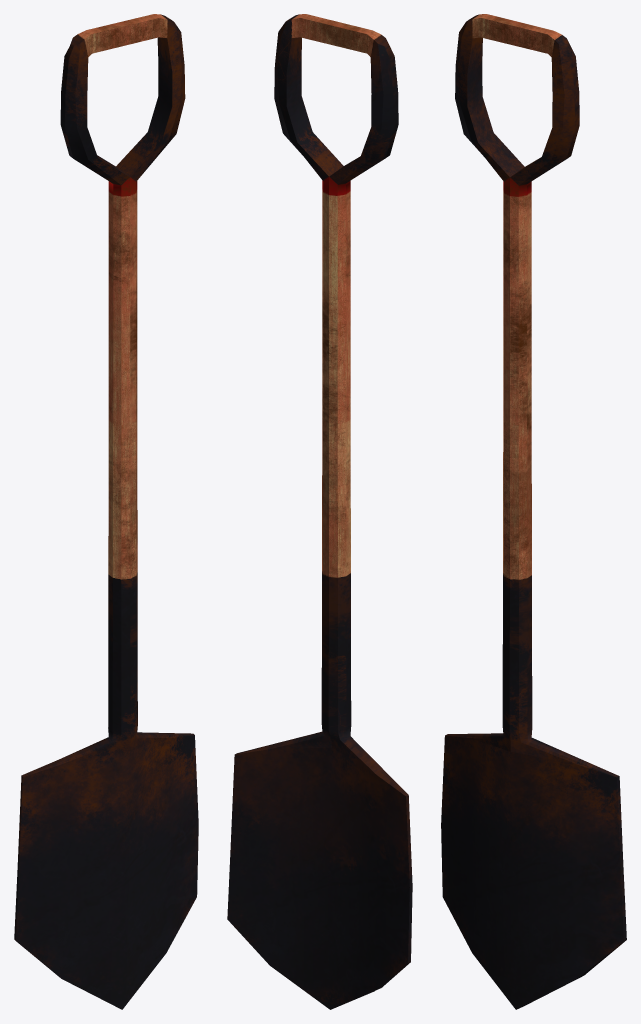
3 renders of one model, left to right at view 1: azimuth 30°, elevation 25°; view 2: azimuth 150°, elevation 25°; view 3: azimuth 330°, elevation 25°, orthographic.
Visible parts, largest first — view 1: ShovelpolySurface2, polySurface1Shovel; view 2: ShovelpolySurface2, polySurface1Shovel; view 3: ShovelpolySurface2, polySurface1Shovel.
Boxes of the visible parts, box(x1,y1,x2,y2) form: ShovelpolySurface2: box(14, 418, 198, 1009); polySurface1Shovel: box(60, 14, 185, 424); ShovelpolySurface2: box(227, 417, 412, 1009); polySurface1Shovel: box(274, 14, 398, 423); ShovelpolySurface2: box(441, 419, 626, 1009); polySurface1Shovel: box(455, 14, 579, 425).
Bounding box in the file's own units: 1.88 × 9.73 × 0.4672.
1 material, 1 textured.
